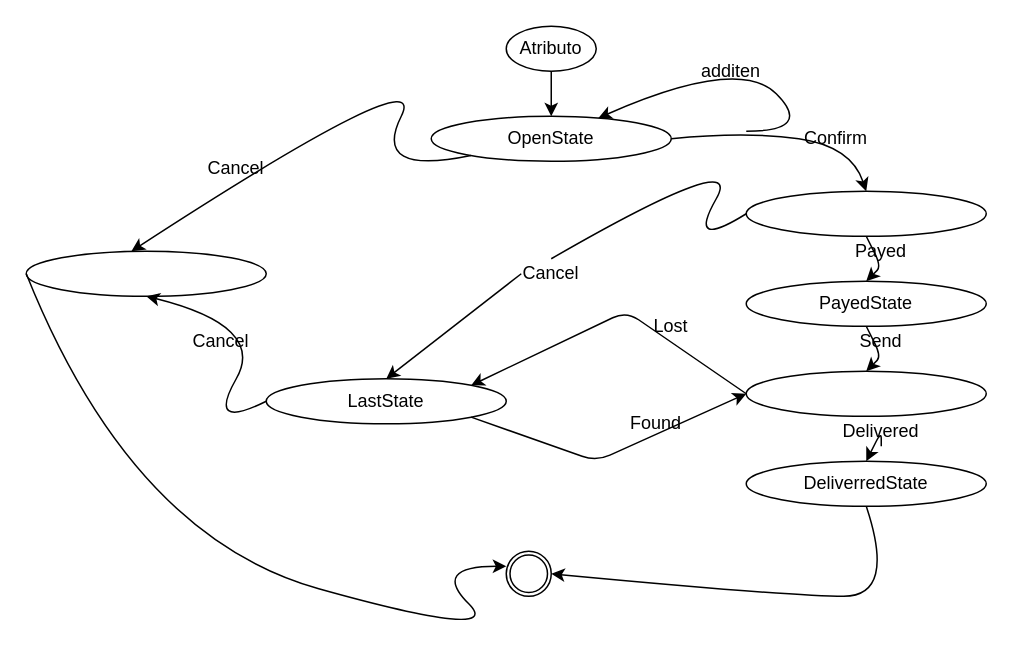
The diagram is 1013 pixels wide and 647 high, and some of its shapes have lost their labels. Each missing label, with the box of its shape:
CanceleState: (25, 250, 266, 296)
OrderSate: (745, 190, 986, 236)
SendState: (745, 370, 986, 416)
